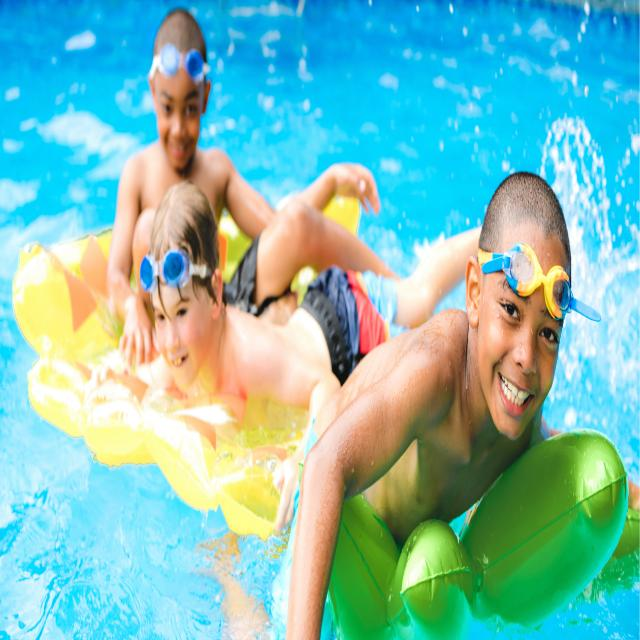child: (284, 166, 575, 640), (138, 178, 505, 534), (105, 9, 384, 366)
